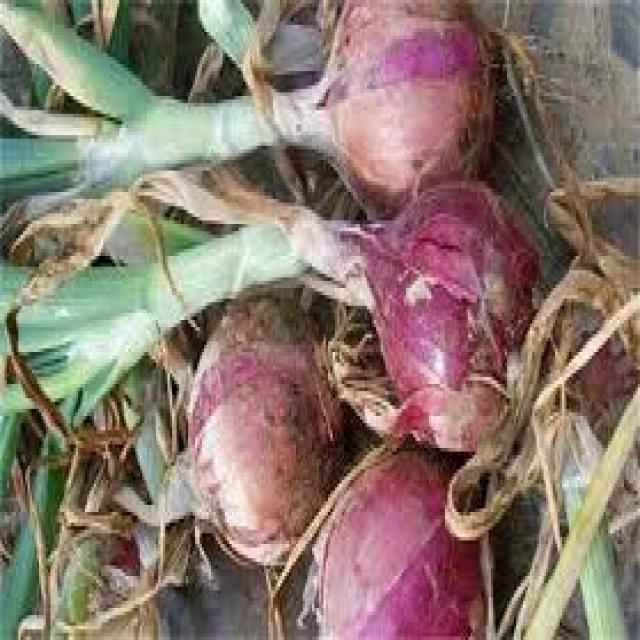organic waste: (0, 160, 537, 452), (0, 0, 528, 210), (447, 174, 638, 636), (115, 288, 383, 569), (2, 384, 193, 636), (308, 430, 487, 636)
